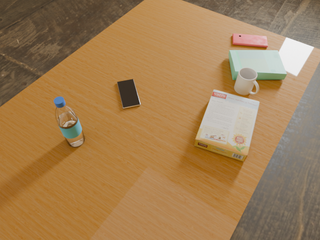book: (229, 50, 287, 80)
bottle: (54, 97, 85, 147)
box: (194, 90, 259, 162)
cup: (234, 67, 259, 95)
phone: (117, 79, 141, 109), (233, 34, 268, 47)
